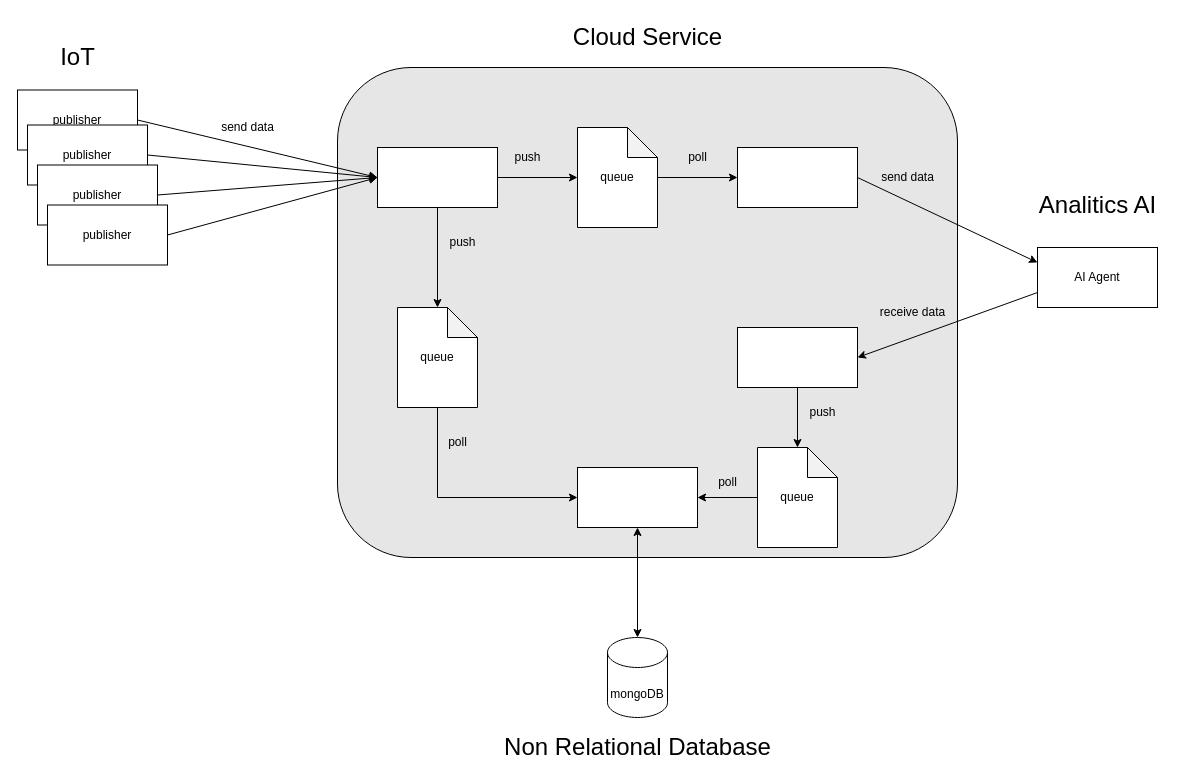
This 1185x784 diagram has some shape labels left out. The box of each missing label's shape, as (x1, y1, x2, y2) in pixels:
consumer: (736, 326, 858, 388)
DatabaseController: (576, 466, 698, 528)
producer: (736, 146, 858, 208)
subscriber: (376, 146, 498, 208)
